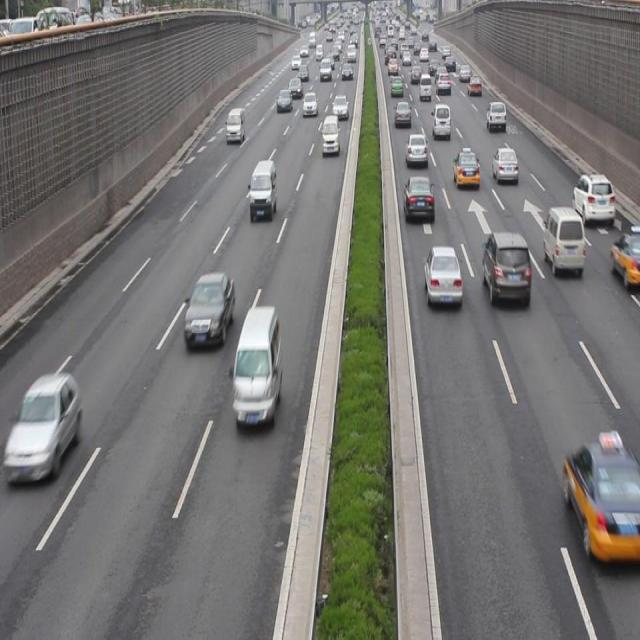car: (563, 430, 632, 566), (10, 371, 83, 487), (183, 272, 235, 353), (483, 230, 529, 310), (570, 173, 613, 228), (423, 248, 461, 308), (608, 230, 640, 293), (404, 174, 434, 221), (453, 149, 479, 188), (491, 150, 518, 182), (405, 133, 427, 166), (484, 102, 504, 129), (392, 100, 409, 128)
truck: (234, 304, 279, 430), (541, 206, 584, 276), (248, 159, 277, 220), (320, 116, 340, 154), (430, 102, 449, 136), (226, 108, 243, 144)
